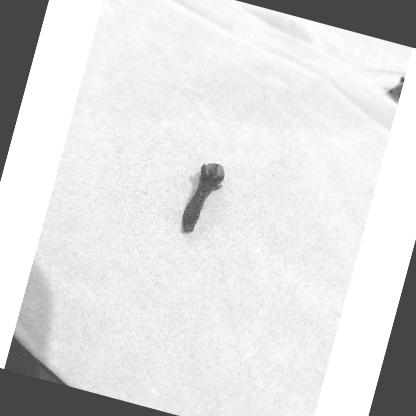baik: (182, 164, 225, 234)
